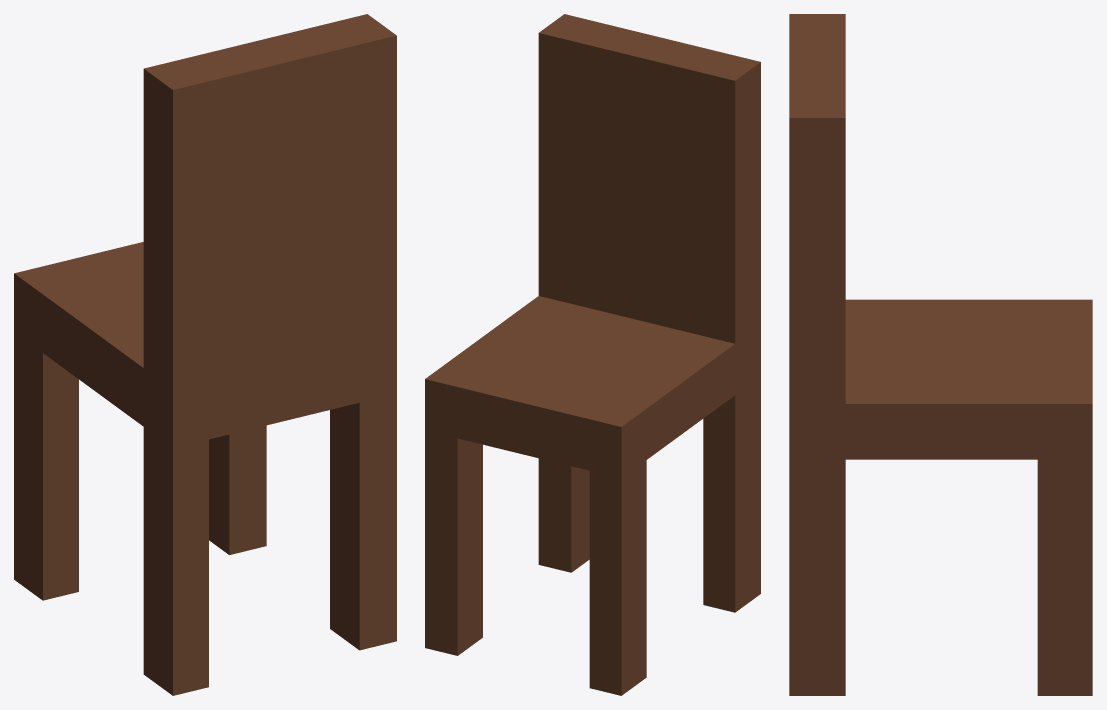
The model's file is sedia.fbx.
The picture shows the model from 3 angles, left to right: view 1: azimuth 30°, elevation 25°; view 2: azimuth 150°, elevation 25°; view 3: azimuth 270°, elevation 25°; orthographic projection. The views are drawn at different scales.
Parts seen in each view (by area): view 1: sedia1; view 2: sedia1; view 3: sedia1.
Part boxes in pixels (bbox=[...]): sedia1: bbox=[14, 14, 396, 695]; sedia1: bbox=[425, 14, 760, 695]; sedia1: bbox=[789, 14, 1092, 695].
Size of the model in its own units: 0.4548 by 1.18 by 0.5592.
